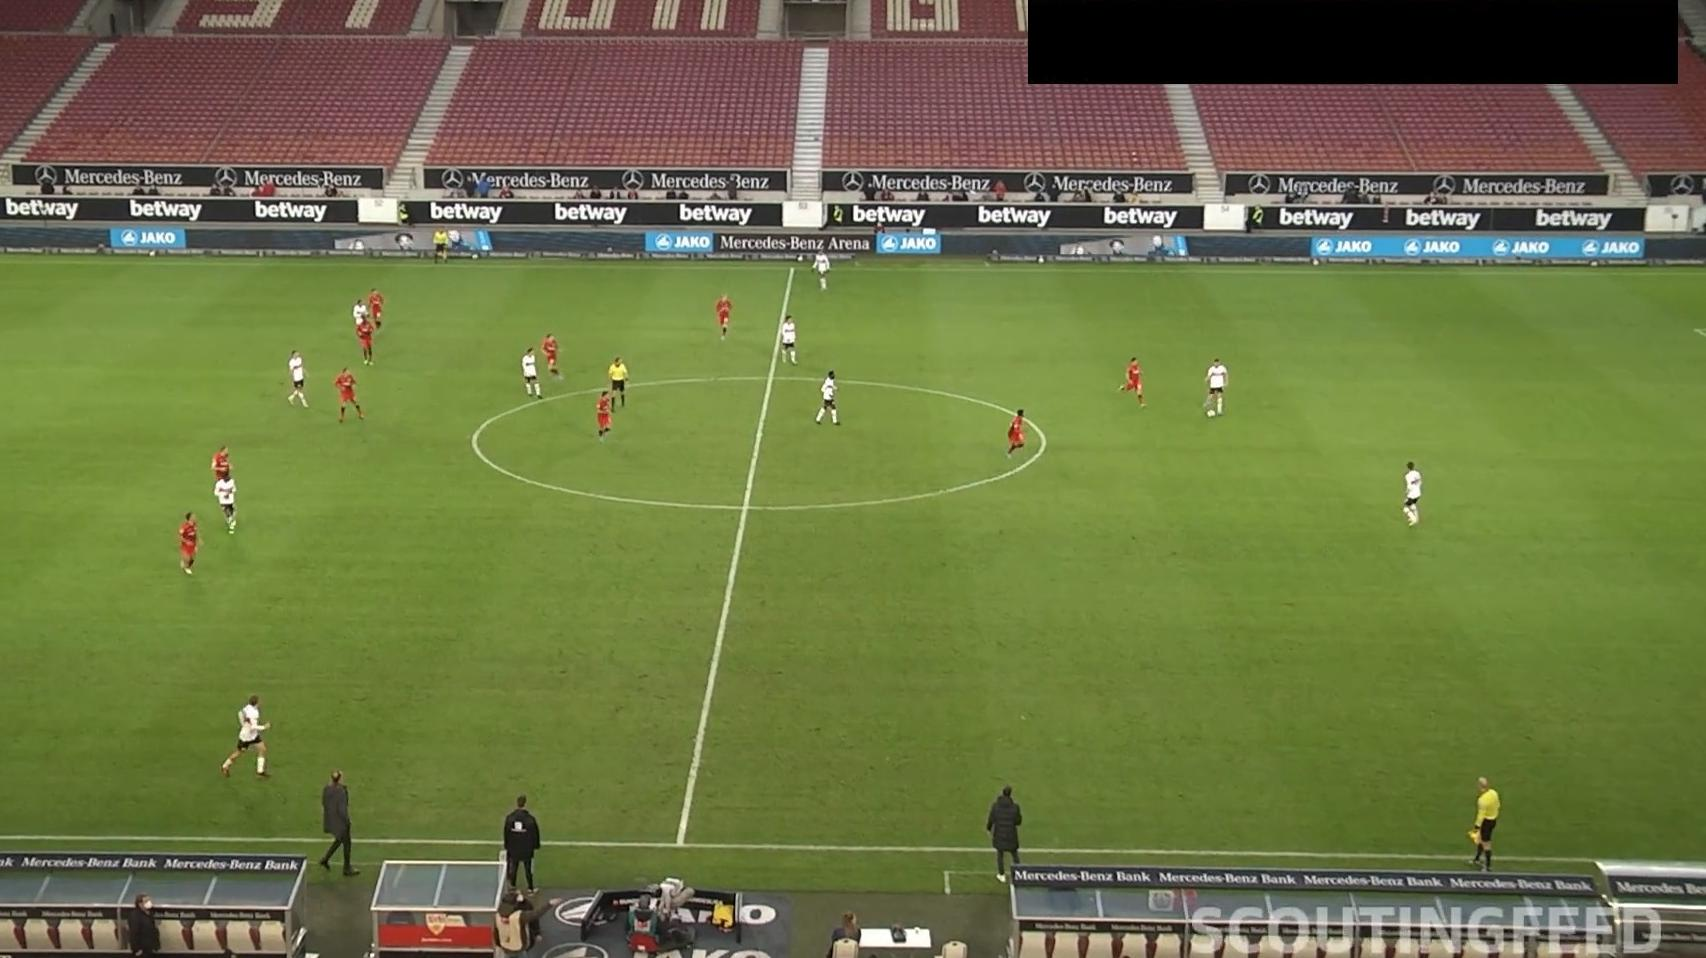ball: (1206, 409, 1217, 418)
